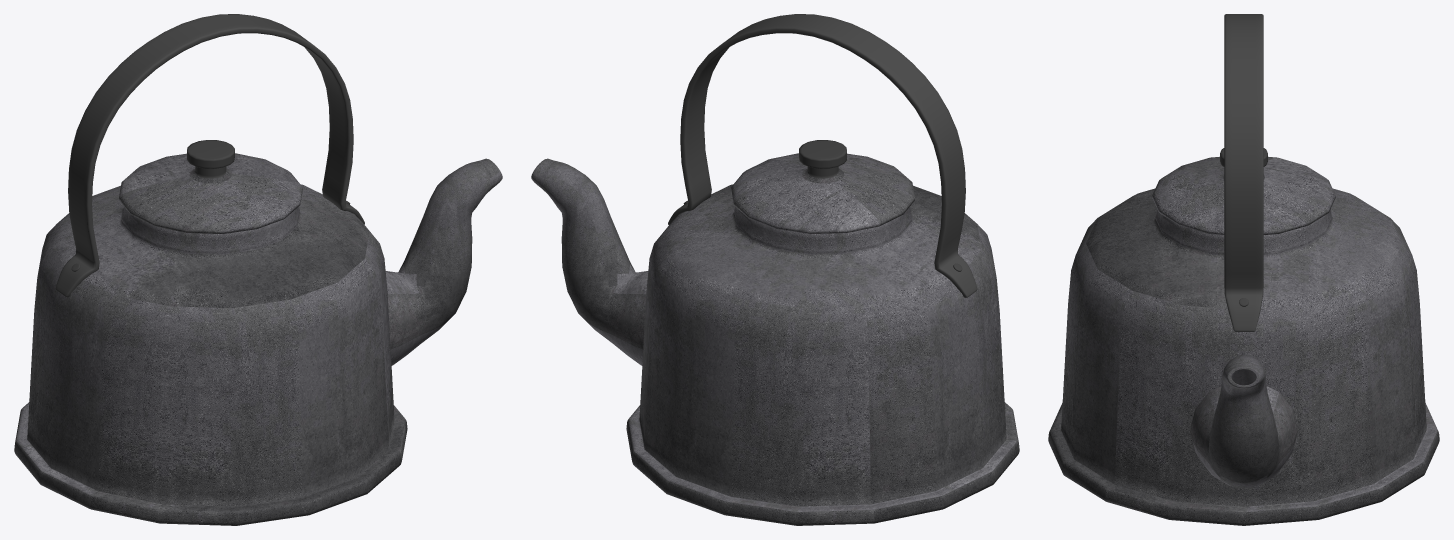
The model's file is TEAPOT.fbx.
3 views of the same model, side by side, from view 1: azimuth 30°, elevation 25°; view 2: azimuth 150°, elevation 25°; view 3: azimuth 270°, elevation 25° (orthographic).
Visible parts, largest first — view 1: teapot, teapot.001; view 2: teapot, teapot.001; view 3: teapot, teapot.001.
Boxes of the visible parts, <box> form: teapot: <box>14,14,502,525</box>; teapot.001: <box>119,140,302,233</box>; teapot: <box>531,14,1019,525</box>; teapot.001: <box>731,140,914,233</box>; teapot: <box>1048,14,1439,525</box>; teapot.001: <box>1152,148,1335,234</box>.
Bounding box in the file's own units: 24.86 × 21.81 × 18.61.
3 materials, 1 textured.
